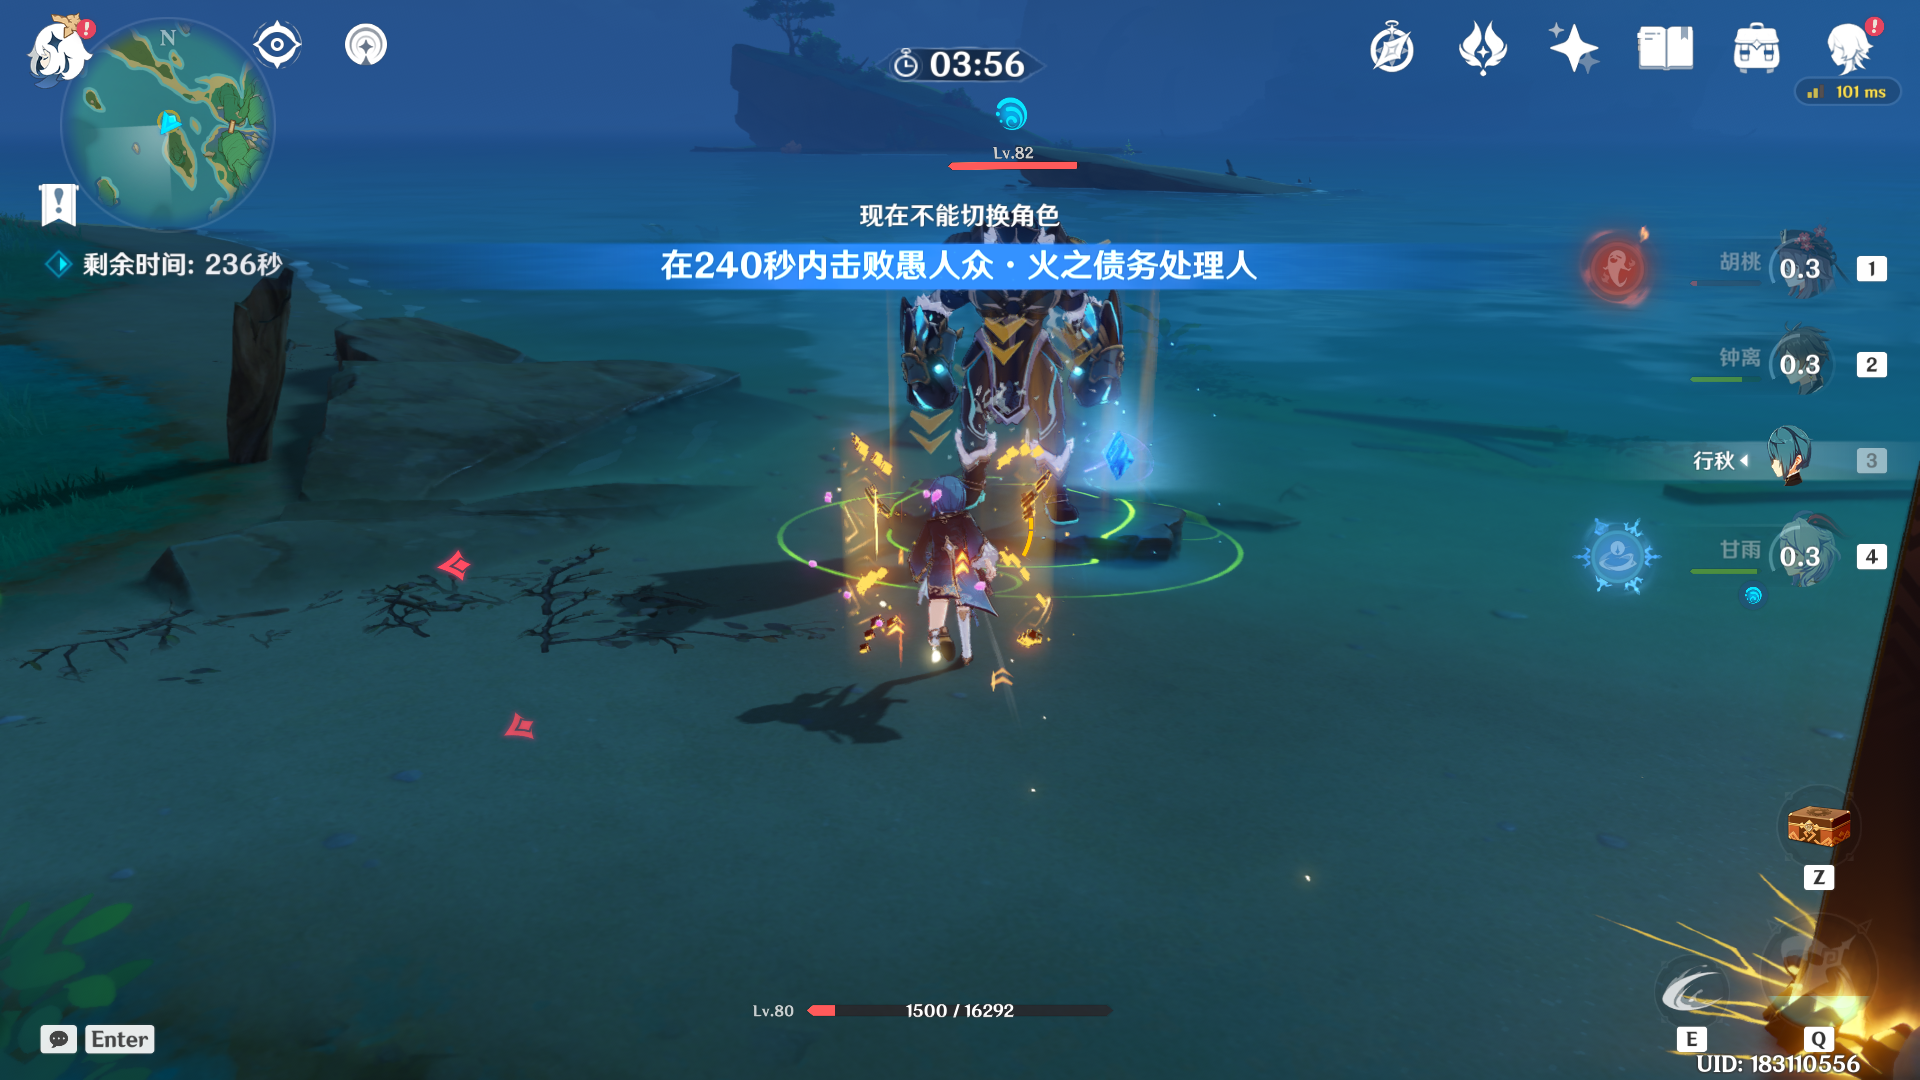character: (857, 464, 1043, 703)
